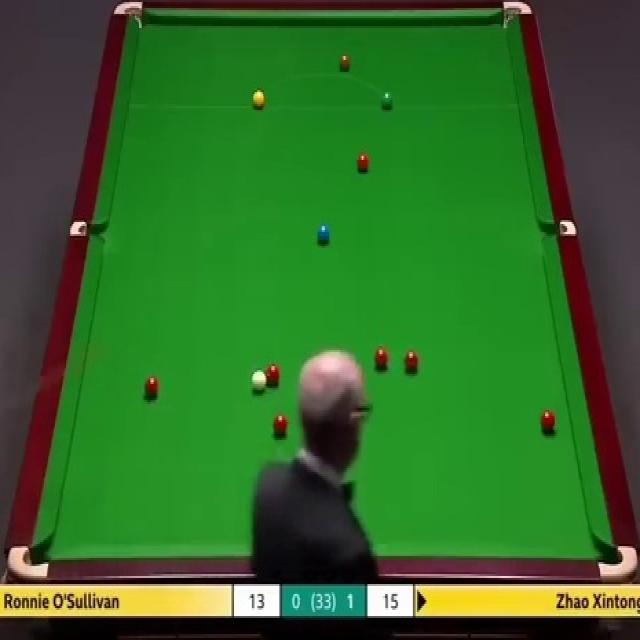blue-ball: (315, 222, 330, 244)
brown-ball: (339, 54, 352, 74)
green-ball: (380, 89, 393, 110)
red-ball: (142, 376, 160, 400), (540, 408, 556, 434), (273, 412, 287, 438), (266, 363, 280, 388), (404, 352, 418, 376), (355, 152, 370, 174), (373, 347, 387, 369)
white-ball: (251, 369, 268, 394)
yellow-ball: (252, 88, 265, 109)
